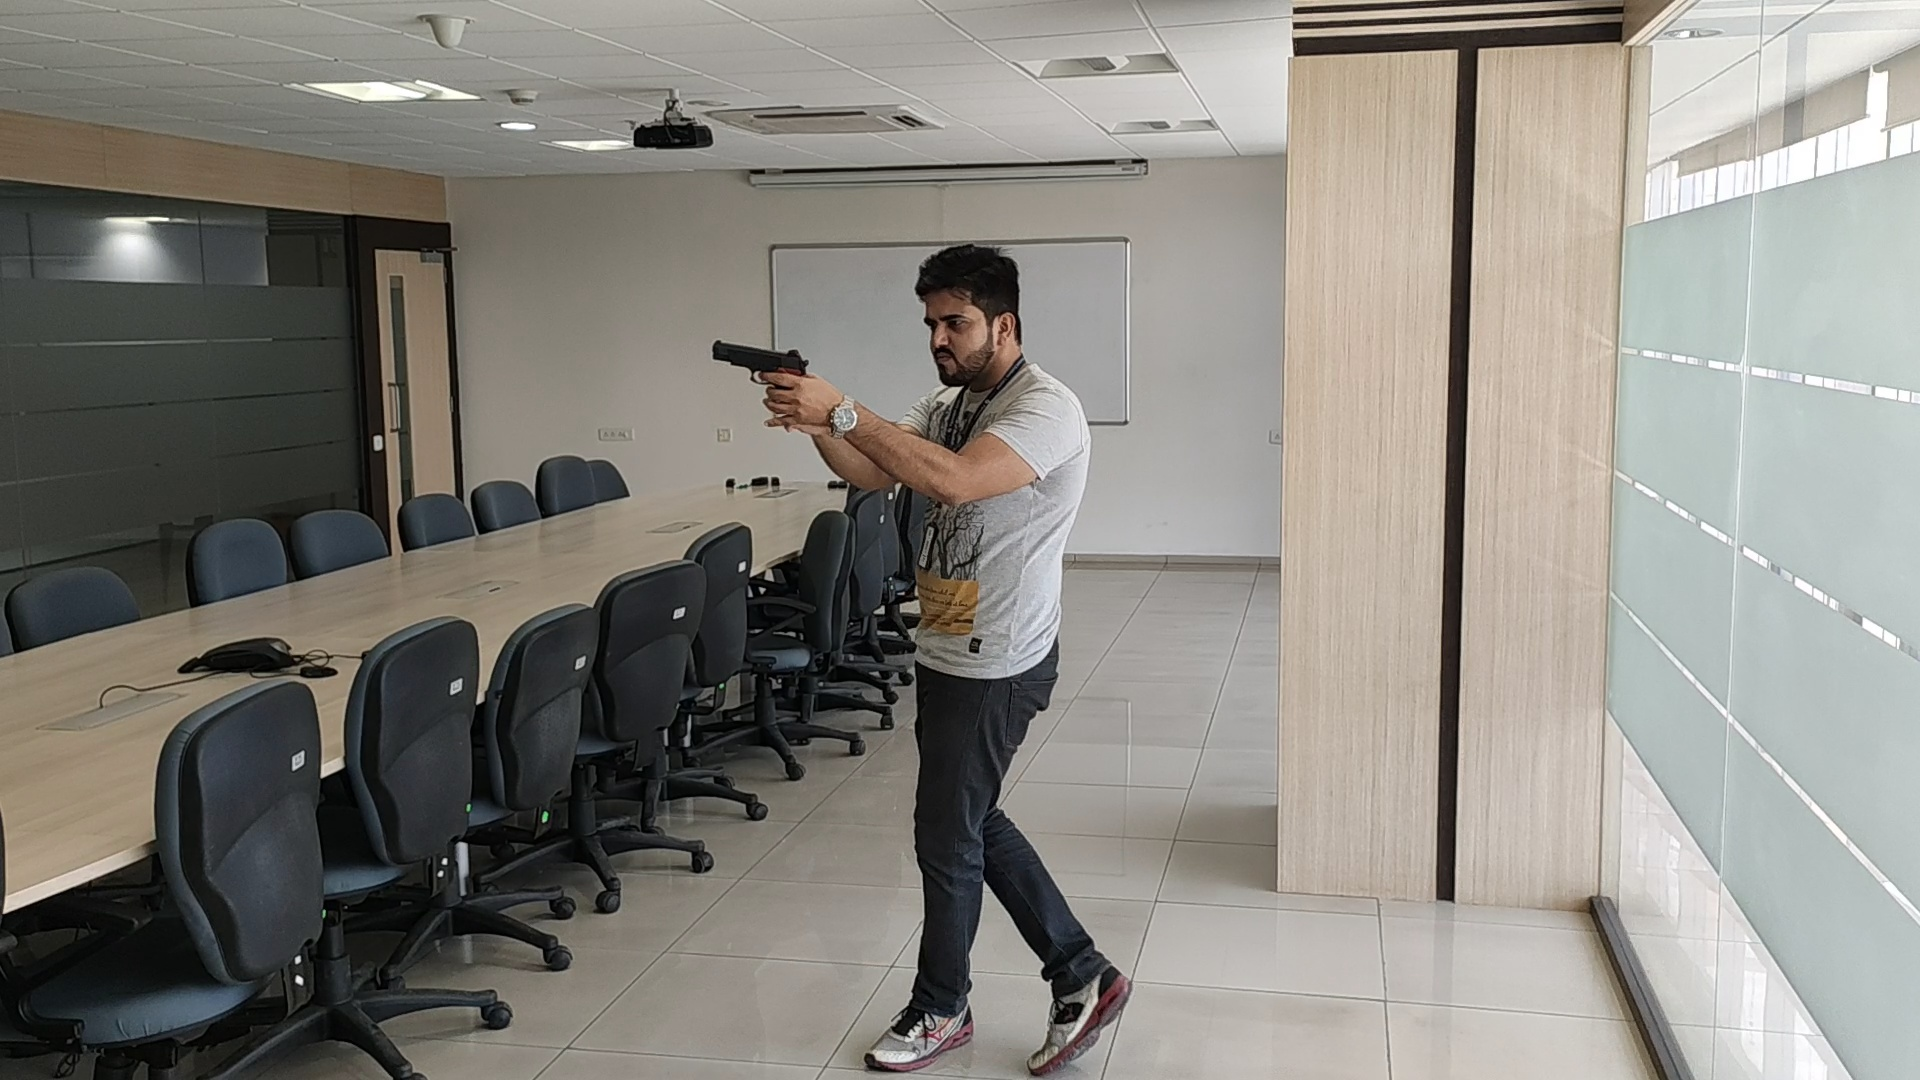gun: (711, 339, 810, 373)
